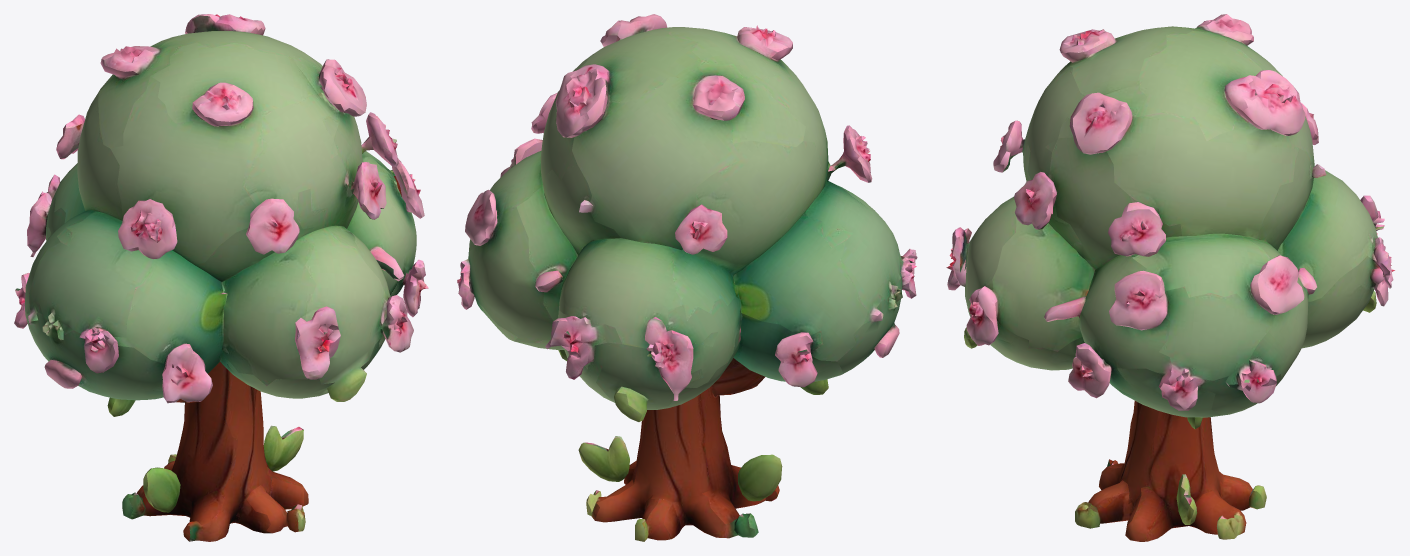
Rendered from tree_blossom.glb.
The picture shows the model from 3 angles, left to right: view 1: azimuth 30°, elevation 25°; view 2: azimuth 150°, elevation 25°; view 3: azimuth 270°, elevation 25°; orthographic projection.
Parts seen in each view (by area): view 1: tree_blossom_s15; view 2: tree_blossom_s15; view 3: tree_blossom_s15.
Part boxes in pixels (left/top/right/bottom): tree_blossom_s15: left=14, top=14, right=428, bottom=541; tree_blossom_s15: left=457, top=14, right=917, bottom=541; tree_blossom_s15: left=946, top=14, right=1394, bottom=541.
Size of the model in its own units: 0.8768 by 1 by 0.8719.
Materials: 1 (1 with a texture image).
